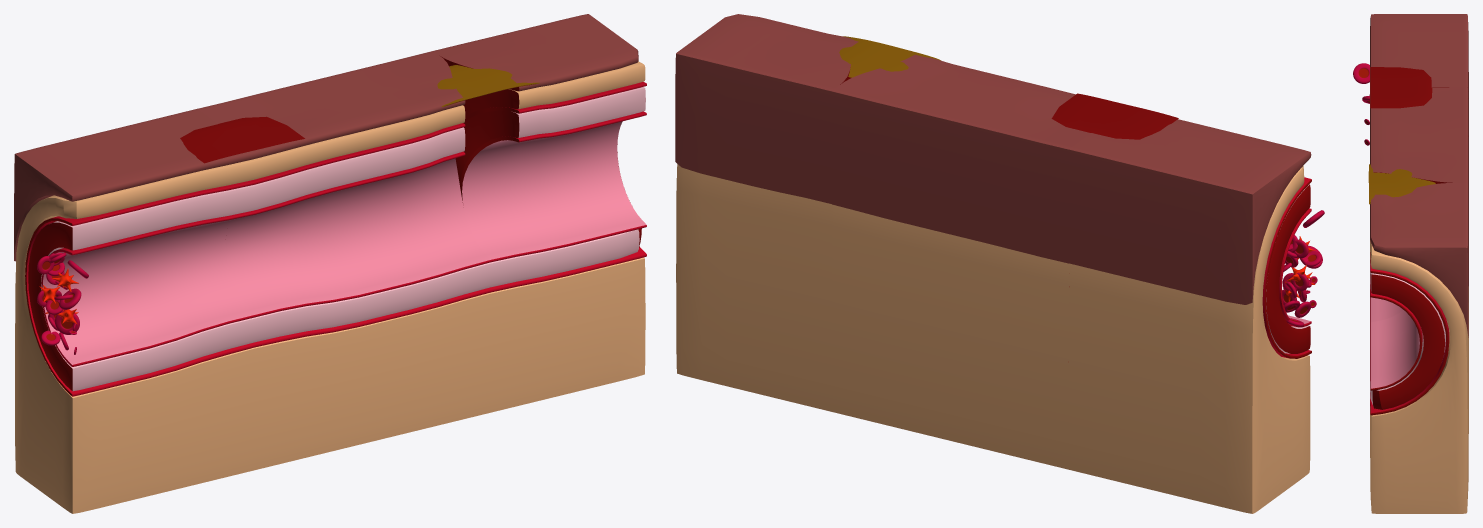
3 views of the same model, side by side, from view 1: azimuth 30°, elevation 25°; view 2: azimuth 150°, elevation 25°; view 3: azimuth 270°, elevation 25° (orthographic). The views are drawn at different scales.
Visible parts, largest first — view 1: R_Flesh, L_Skin_01.001, R_Skin_01; view 2: R_Flesh, L_Skin_01.001, R_Skin_01; view 3: R_Flesh, L_Skin_01.001, R_Skin_01, Blood_Cell_27.
Boxes of the visible parts, x1,y1,x2,y2 form: R_Flesh: (14, 14, 646, 513); L_Skin_01.001: (180, 116, 304, 163); R_Skin_01: (437, 65, 539, 106); R_Flesh: (675, 14, 1311, 513); L_Skin_01.001: (1051, 93, 1178, 139); R_Skin_01: (839, 36, 940, 77); R_Flesh: (1370, 14, 1468, 513); L_Skin_01.001: (1370, 67, 1432, 108); R_Skin_01: (1368, 164, 1435, 204); Blood_Cell_27: (1353, 63, 1369, 83).
Bounding box in the file's own units: 0.8569 × 0.4473 × 0.1743.
33 materials, 4 textured.
